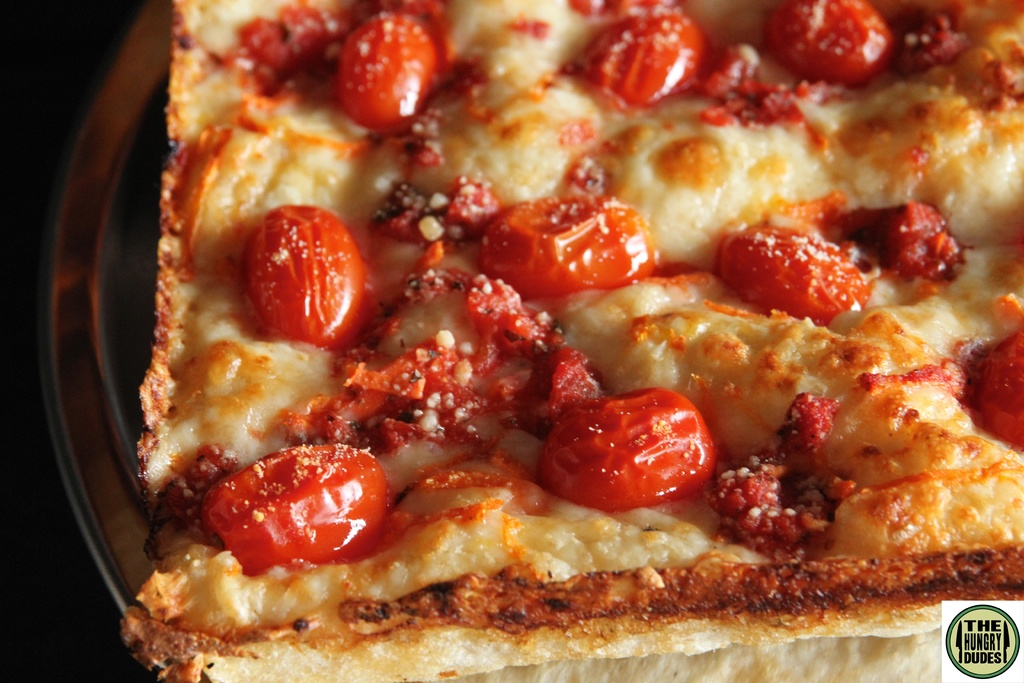Pizza: (119, 0, 1023, 682)
